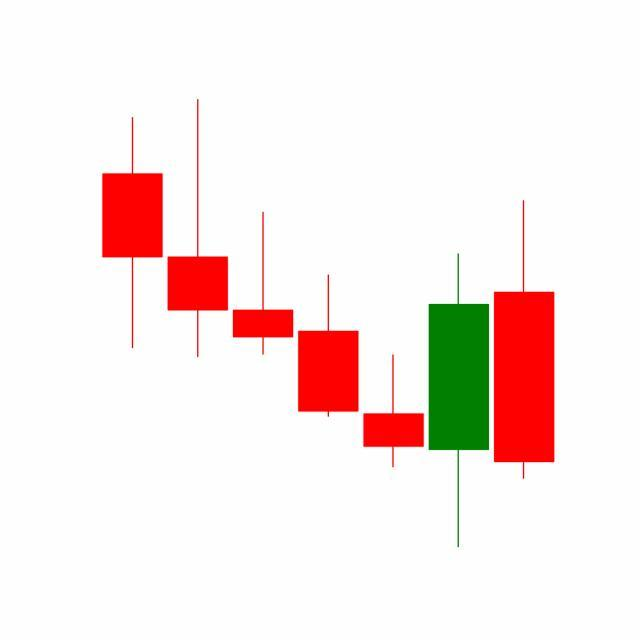Morning Star: (295, 250, 492, 549)
